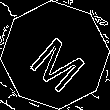M_NE: (21, 21, 89, 89)
